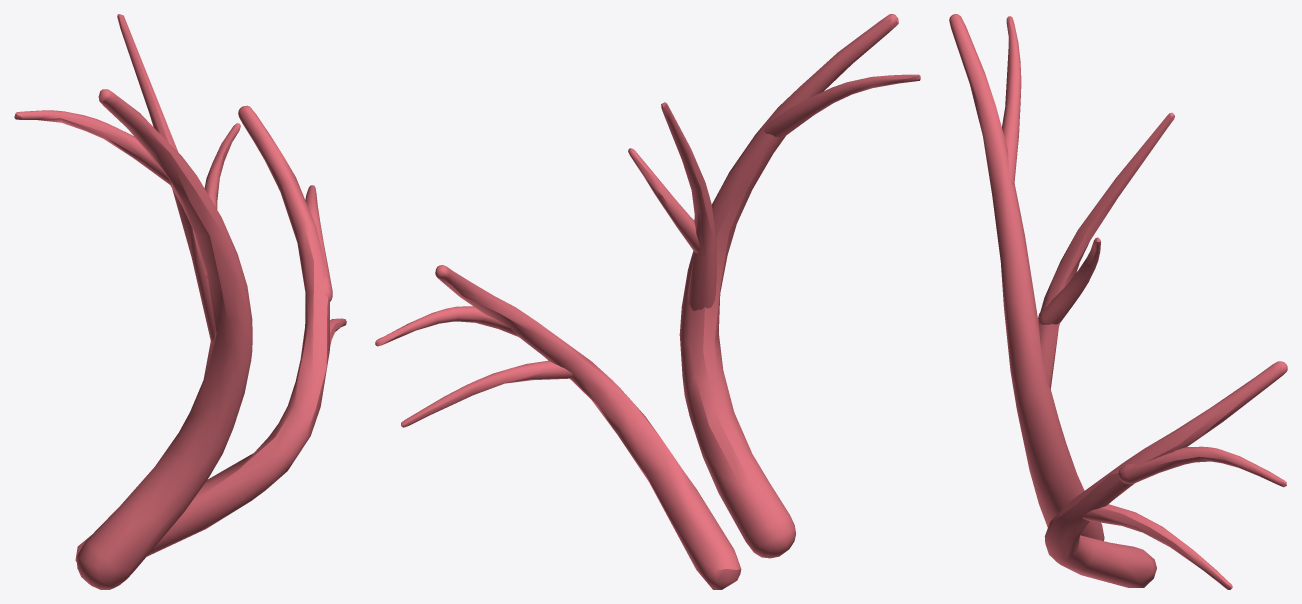
File: fma13281_cx3.glb
3 views of the same model, side by side, from view 1: azimuth 30°, elevation 25°; view 2: azimuth 150°, elevation 25°; view 3: azimuth 270°, elevation 25° (orthographic). The views are drawn at different scales.
Visible parts, largest first — view 1: FMA13281_CX3; view 2: FMA13281_CX3; view 3: FMA13281_CX3.
Boxes of the visible parts, box(x1,y1,x2,y2) form: FMA13281_CX3: box(14, 14, 346, 589); FMA13281_CX3: box(375, 14, 920, 589); FMA13281_CX3: box(949, 14, 1287, 589).
Bounding box in the file's own units: 0.0612 × 0.0753 × 0.0435.
